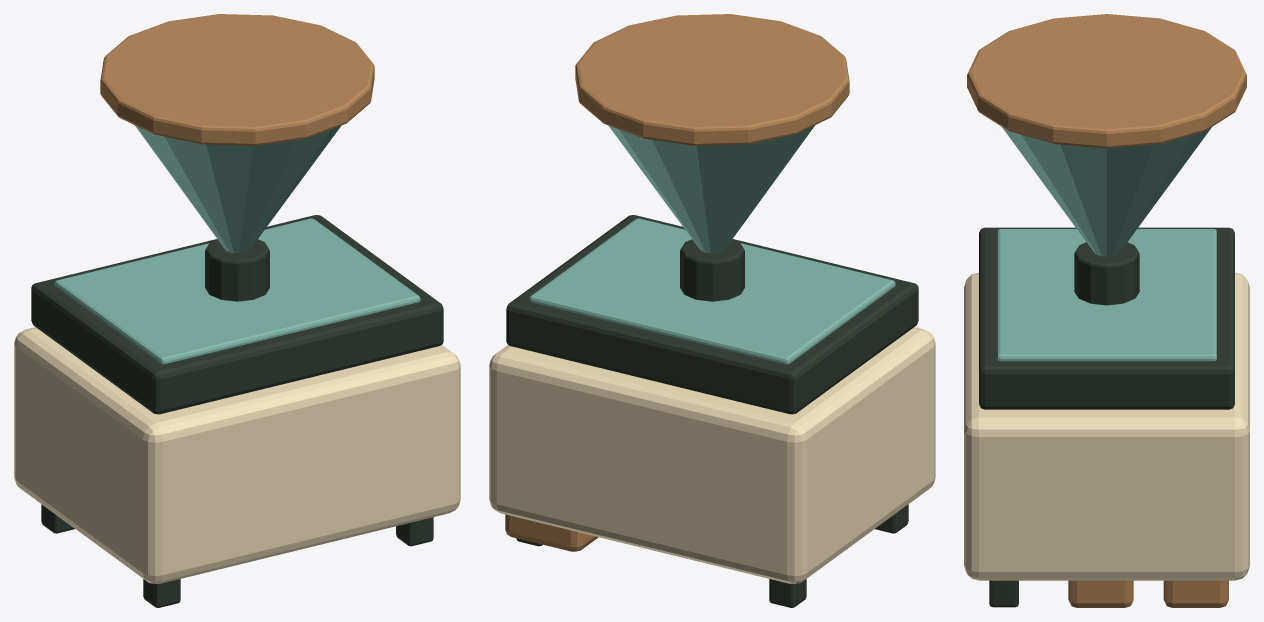
The model's file is SM_Packer.fbx.
The picture shows the model from 3 angles, left to right: view 1: azimuth 30°, elevation 25°; view 2: azimuth 150°, elevation 25°; view 3: azimuth 270°, elevation 25°; orthographic projection.
Visible parts, largest first — view 1: PackerMesh; view 2: PackerMesh; view 3: PackerMesh.
Part boxes in pixels (box(x1,y1,x2,y2)): PackerMesh: box(14, 14, 460, 607); PackerMesh: box(489, 14, 935, 607); PackerMesh: box(964, 14, 1249, 607).
Bounding box in the file's own units: 1.24 × 1.74 × 0.96.
